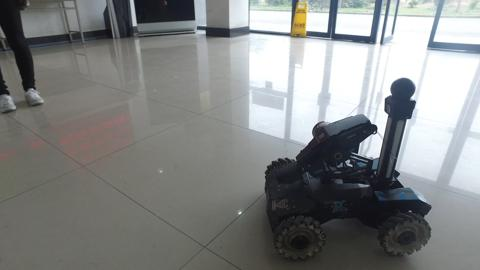chariot: (262, 76, 433, 260)
